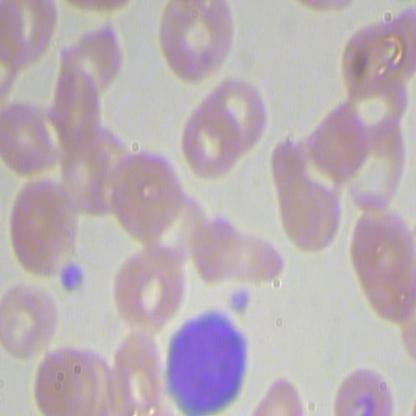Platelets: (54, 258, 91, 295), (227, 284, 254, 316)
RBC: (104, 245, 186, 332), (175, 102, 242, 182), (204, 76, 270, 155)
WBC: (159, 305, 249, 415)
